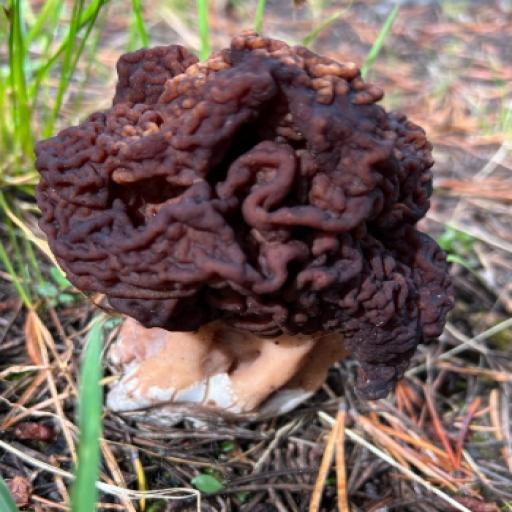mushroom: (13, 0, 501, 470)
